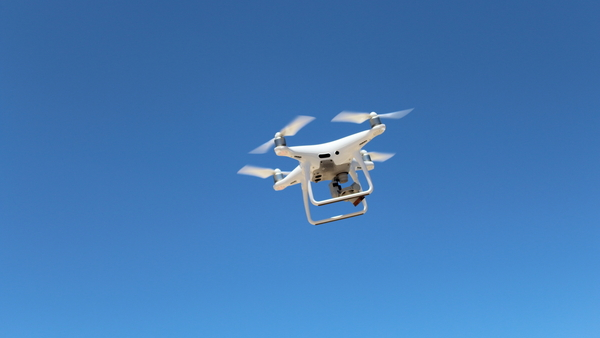drone: (235, 105, 415, 227)
